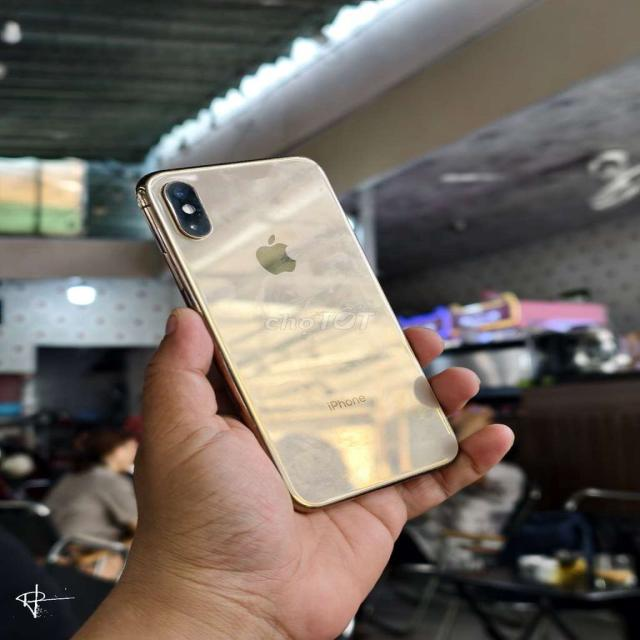gen_x_xs: (138, 157, 458, 509)
